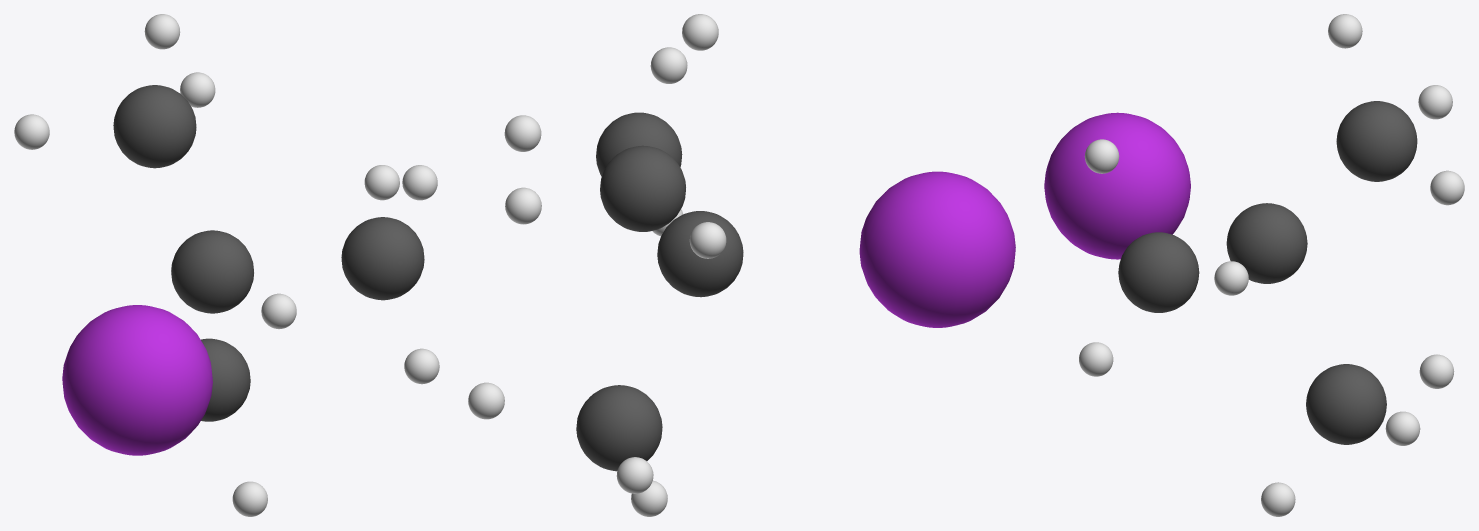
The model's file is TertButylIodide_SN1_stage1.fbx.
The picture shows the model from 3 angles, left to right: view 1: azimuth 30°, elevation 25°; view 2: azimuth 150°, elevation 25°; view 3: azimuth 270°, elevation 25°; orthographic projection. The views are drawn at different scales.
Parts seen in each view (by area): view 1: I14, C01, C02, C10, C06, H11, H05, H07, H03, H12, H04, H09 (+1 smaller); view 2: I14, C10, C06, C01, C02, H03, H09, H13, H12, H11, H05, H08 (+1 smaller); view 3: I14, C06, C02, C10, C01, H13, H03, H05, H07, H11, H12, H04 (+2 smaller).
Part boxes in pixels (bbox=[...]): I14: bbox=[62, 305, 212, 455]; C01: bbox=[171, 230, 253, 313]; C02: bbox=[341, 217, 424, 300]; C10: bbox=[113, 85, 196, 168]; C06: bbox=[201, 338, 250, 421]; H11: bbox=[14, 114, 49, 149]; H05: bbox=[402, 165, 437, 200]; H07: bbox=[232, 481, 267, 516]; H03: bbox=[364, 165, 399, 200]; H12: bbox=[144, 14, 180, 49]; H04: bbox=[404, 348, 439, 384]; H09: bbox=[261, 293, 296, 329]; I14: bbox=[859, 171, 1015, 327]; C10: bbox=[600, 145, 685, 231]; C06: bbox=[576, 385, 662, 471]; C01: bbox=[657, 211, 743, 297]; C02: bbox=[596, 112, 682, 176]; H03: bbox=[682, 14, 718, 50]; H09: bbox=[468, 382, 504, 419]; H13: bbox=[505, 187, 541, 224]; H12: bbox=[650, 47, 687, 83]; H11: bbox=[689, 222, 726, 258]; H05: bbox=[504, 115, 541, 151]; H08: bbox=[616, 457, 653, 493]; I14: bbox=[1044, 112, 1190, 259]; C06: bbox=[1306, 364, 1386, 444]; C02: bbox=[1118, 232, 1199, 312]; C10: bbox=[1336, 101, 1417, 181]; C01: bbox=[1226, 203, 1307, 283]; H13: bbox=[1430, 170, 1464, 205]; H03: bbox=[1084, 139, 1119, 173]; H05: bbox=[1214, 261, 1248, 295]; H07: bbox=[1261, 482, 1295, 516]; H11: bbox=[1418, 85, 1452, 119]; H12: bbox=[1328, 14, 1362, 48]; H04: bbox=[1079, 342, 1113, 376].
Bounding box in the file's own units: 439 × 485 × 389.
